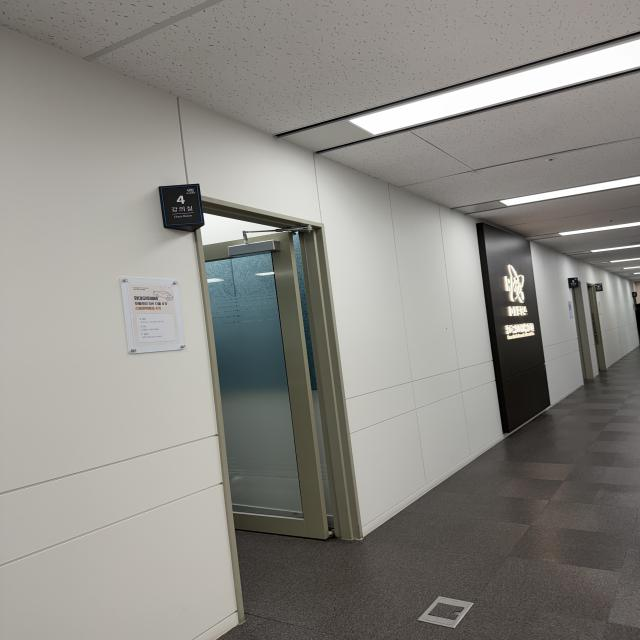sign: (159, 184, 204, 227)
